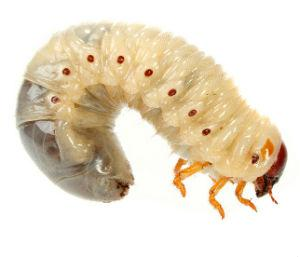grub: (17, 12, 291, 226)
